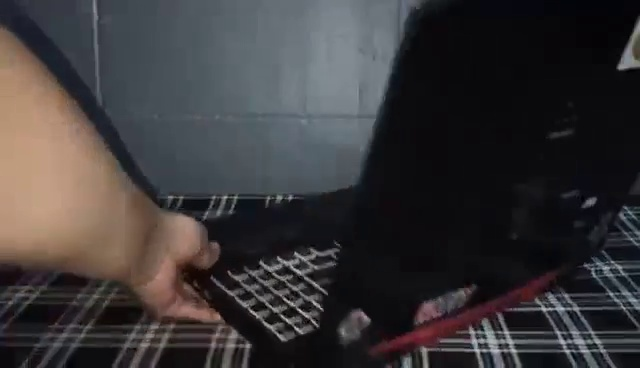laptop: (181, 1, 623, 361)
